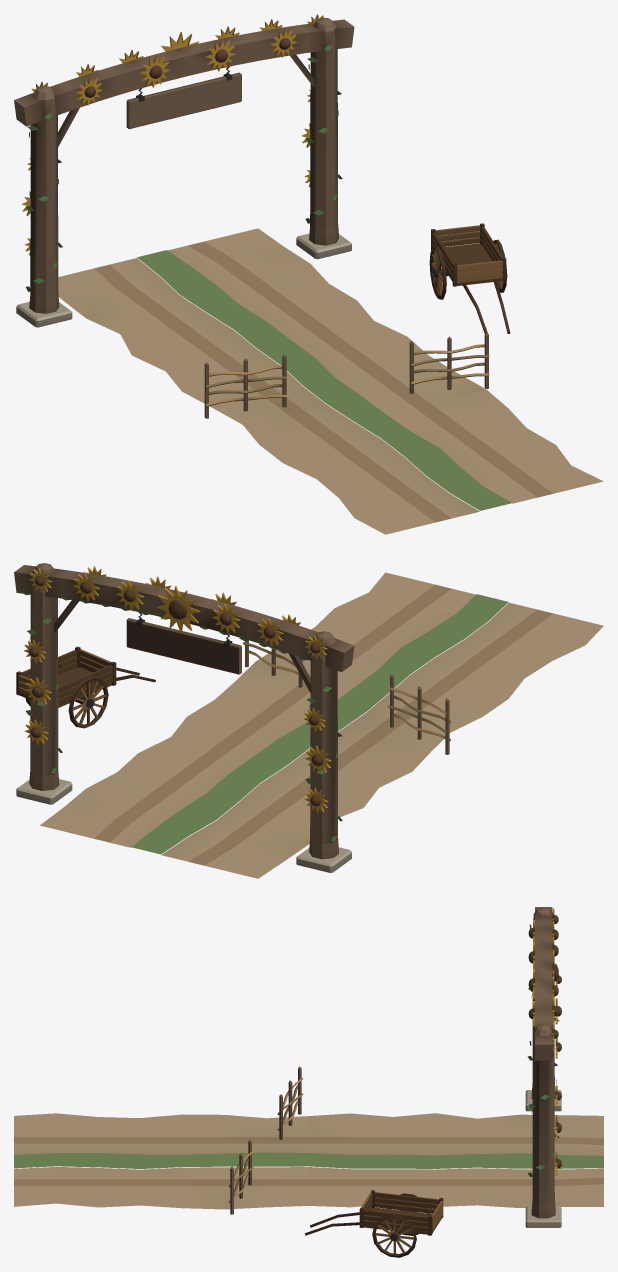
The picture shows the model from 3 angles, top to bottom: view 1: azimuth 30°, elevation 25°; view 2: azimuth 150°, elevation 25°; view 3: azimuth 270°, elevation 25°; orthographic projection. The views are drawn at different scales.
Parts seen in each view (by area): view 1: static_farm_arch; view 2: static_farm_arch; view 3: static_farm_arch.
Boxes of the visible parts, bbox=[...] form: static_farm_arch: bbox=[14, 14, 603, 534]; static_farm_arch: bbox=[14, 563, 603, 878]; static_farm_arch: bbox=[14, 907, 603, 1257].
Size of the model in its own units: 9.14 by 5.4 by 13.7.
